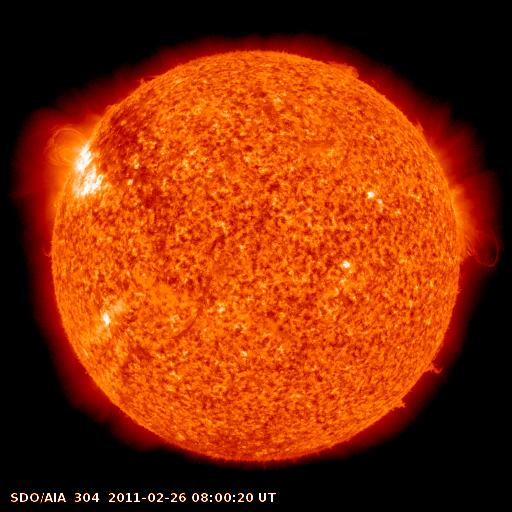prominence: (439, 215, 511, 283), (319, 45, 371, 96), (407, 344, 456, 387), (401, 101, 438, 147), (373, 386, 420, 421), (126, 65, 167, 96)
